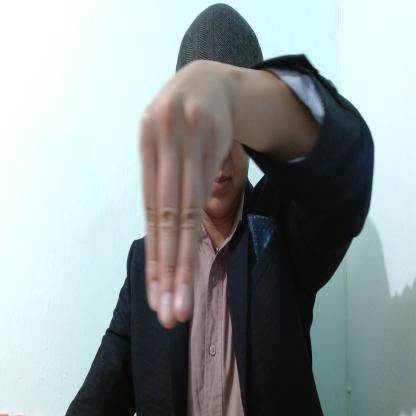M: (140, 61, 236, 331)
